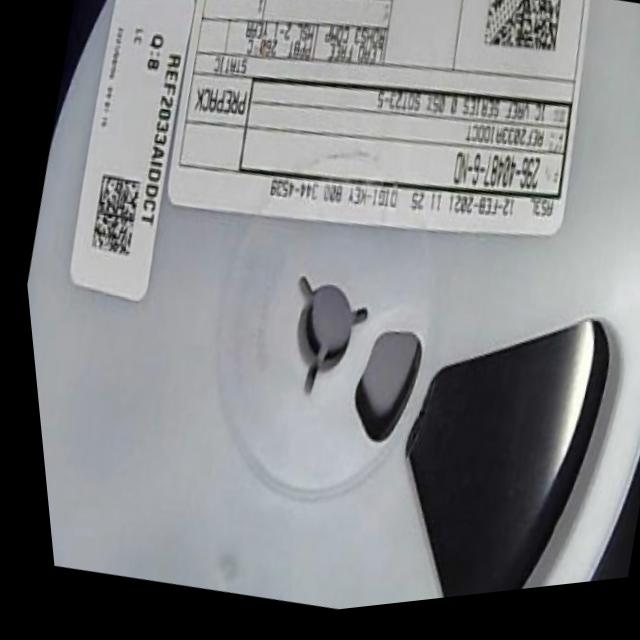datamatrix: (473, 1, 570, 77), (75, 169, 146, 266)
